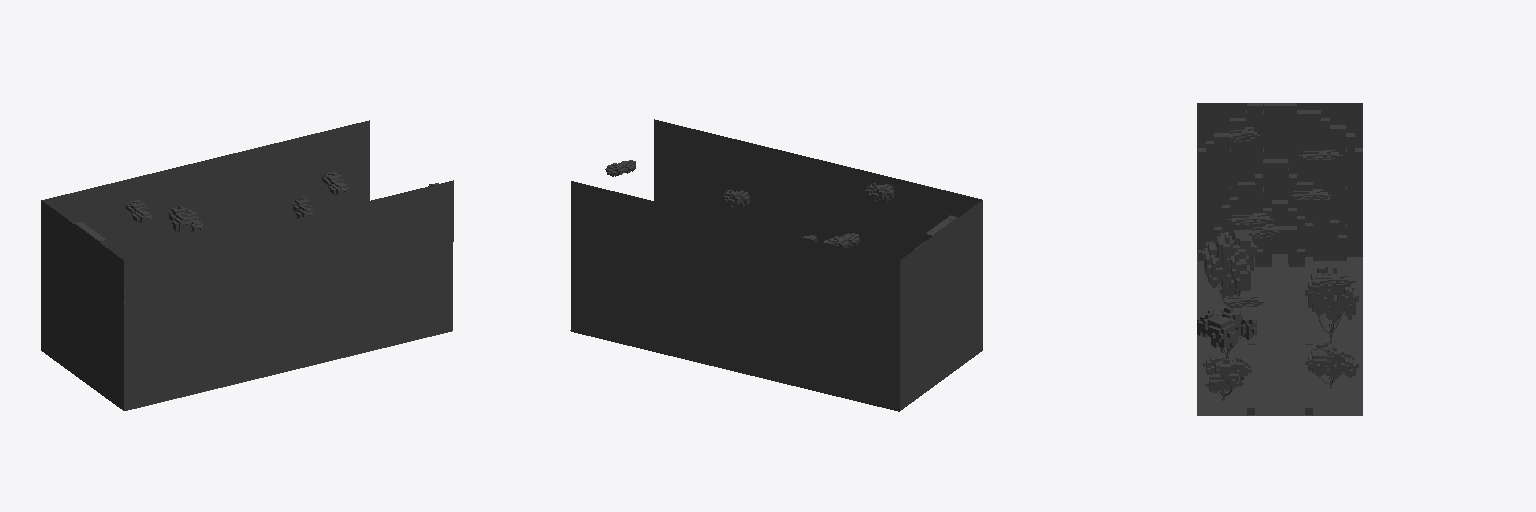
The model's file is forest.obj.
3 renders of one model, left to right at view 1: azimuth 30°, elevation 25°; view 2: azimuth 150°, elevation 25°; view 3: azimuth 270°, elevation 25°, orthographic.
Parts seen in each view (by area): view 1: Plane.003_Plane.004, Plane.002_Plane.003, Plane.001_Plane.002; view 2: Plane.002_Plane.003, Plane.003_Plane.004, Plane.001_Plane.002; view 3: Plane, Plane.004_Plane.006, Plane.001_Plane.002, Sphere.010, Sphere.012, Sphere.009_Sphere.005, Sphere.004_Sphere.001, Sphere.011.
Boxes of the visible parts, box(x1,y1,x2,y2) form: Plane.003_Plane.004: box(124, 180, 453, 410); Plane.002_Plane.003: box(42, 120, 369, 290); Plane.001_Plane.002: box(41, 200, 123, 410); Plane.002_Plane.003: box(571, 181, 899, 411); Plane.003_Plane.004: box(654, 119, 981, 260); Plane.001_Plane.002: box(900, 200, 982, 410); Plane: box(1197, 254, 1362, 414); Plane.004_Plane.006: box(1255, 254, 1304, 414); Plane.001_Plane.002: box(1197, 103, 1362, 253); Sphere.010: box(1201, 229, 1256, 297); Sphere.012: box(1305, 265, 1358, 322); Sphere.009_Sphere.005: box(1197, 306, 1256, 347); Sphere.004_Sphere.001: box(1203, 353, 1251, 392); Sphere.011: box(1305, 342, 1358, 378).
Size of the model in its own units: 48.26 by 22.07 by 20.09.